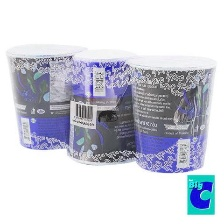paper_cup: (1, 34, 220, 177)
